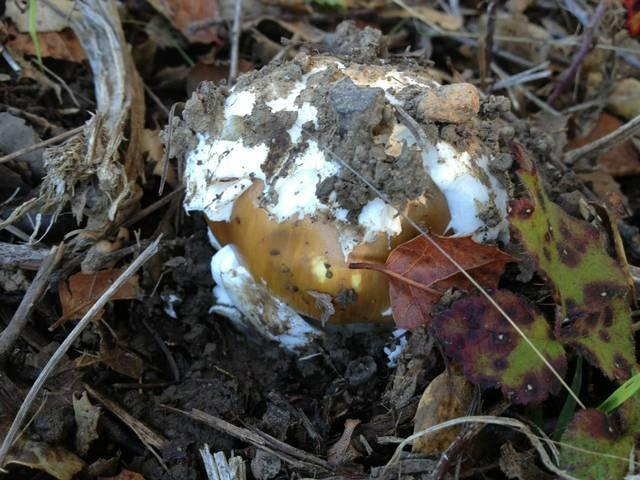edible_mushroom: (168, 50, 512, 353)
